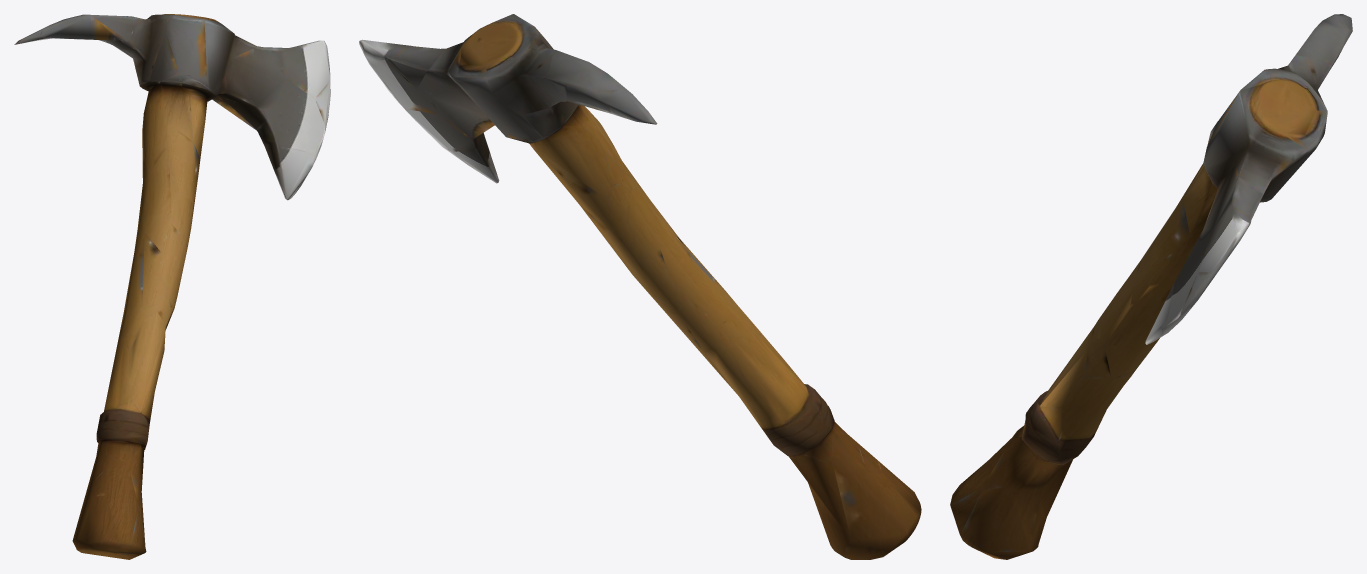
File: felling_axe.glb
3 views of the same model, side by side, from view 1: azimuth 30°, elevation 25°; view 2: azimuth 150°, elevation 25°; view 3: azimuth 270°, elevation 25° (orthographic). The views are drawn at different scales.
Parts seen in each view (by area): view 1: node_0; view 2: node_0; view 3: node_0.
Boxes of the visible parts, bbox=[...] form: node_0: bbox=[14, 14, 330, 559]; node_0: bbox=[359, 14, 921, 559]; node_0: bbox=[950, 14, 1352, 559].
Size of the model in its own units: 0.7508 by 0.9274 by 0.5801.
1 material, 1 textured.
